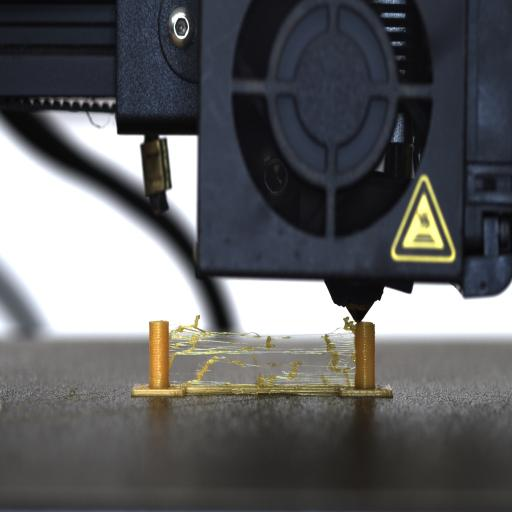stringing: (169, 322, 356, 387)
